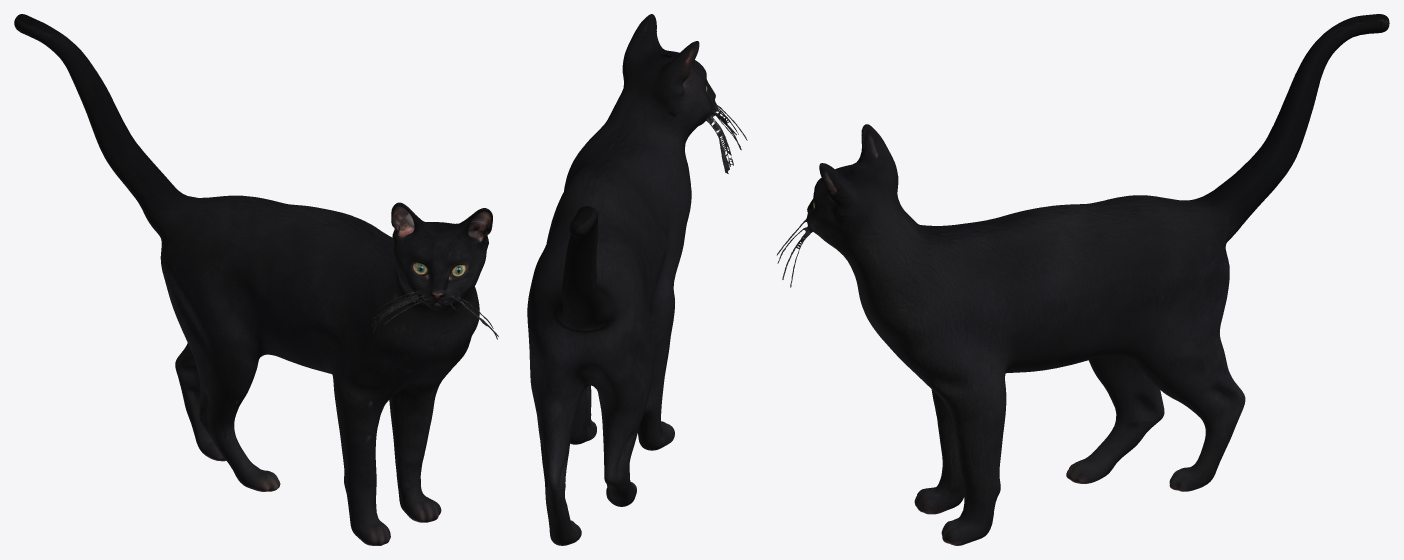
Rendered from meshy_cat_source.glb.
3 renders of one model, left to right at view 1: azimuth 30°, elevation 25°; view 2: azimuth 150°, elevation 25°; view 3: azimuth 270°, elevation 25°, orthographic. The views are drawn at different scales.
Bounding box in the file's own units: 0.8872 × 1.45 × 1.9.
Materials: 1 (1 with a texture image).
